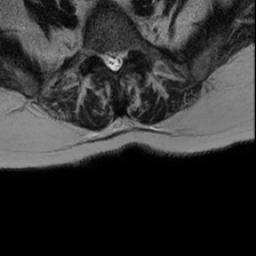CCS_normal: (110, 42, 117, 79)
LFS_normal: (124, 38, 132, 64)
LLS_normal: (117, 42, 124, 74)
RFS_stenosis: (94, 39, 102, 64)
RLS_normal: (102, 44, 110, 72)
